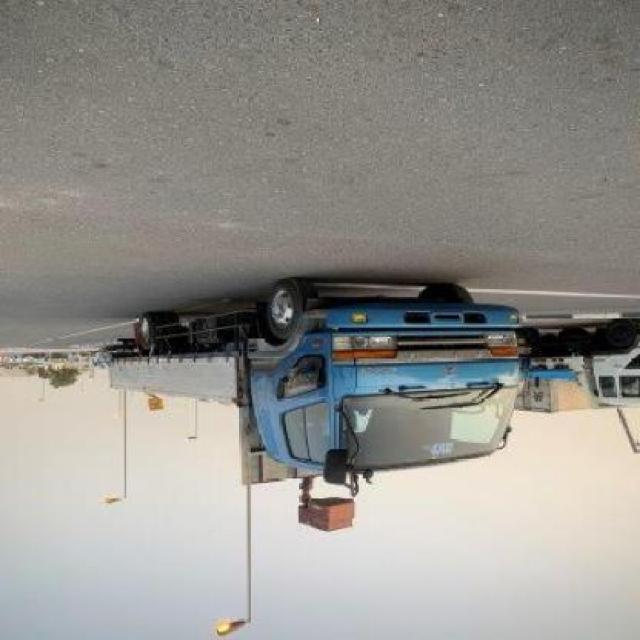truck: (108, 279, 529, 492)
